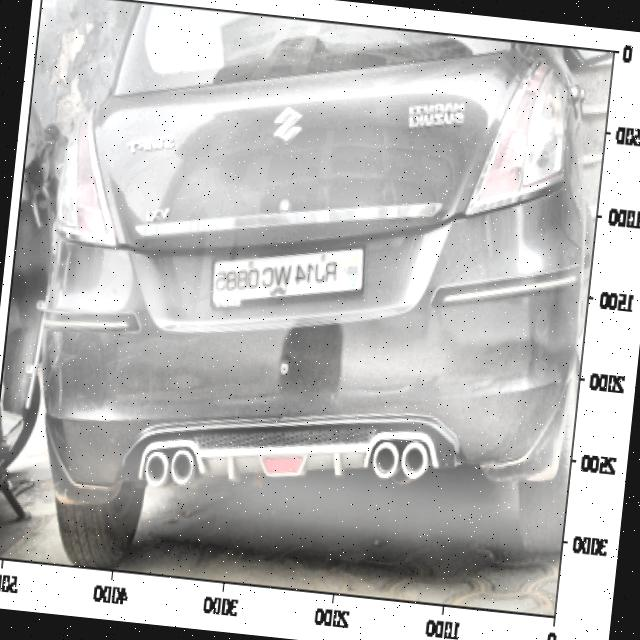license_plate: (208, 240, 345, 310)
